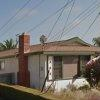Chimney: (14, 29, 34, 55)
